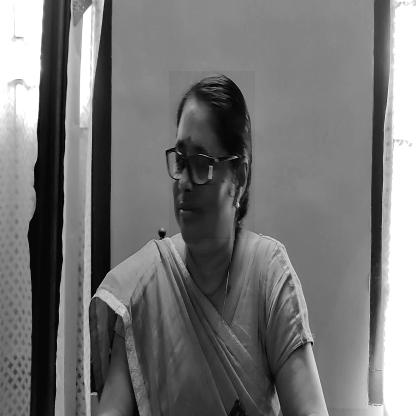Distracted: (169, 71, 255, 239)
